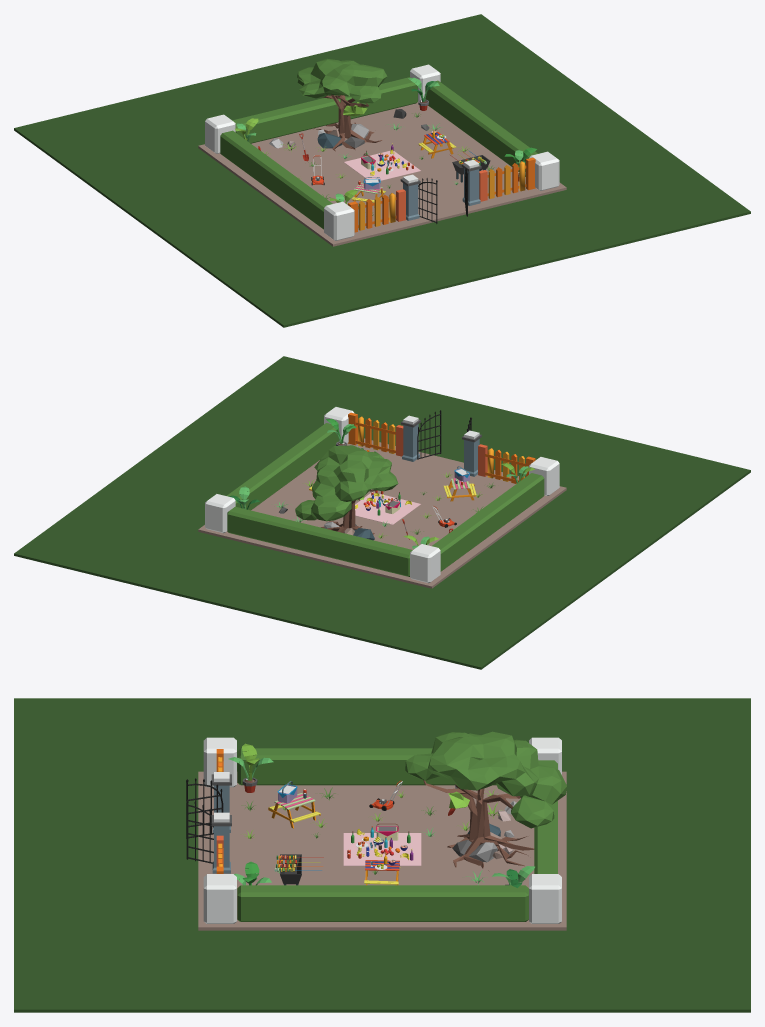
Rendered from map 3 - ngoai vuon.fbx.
The picture shows the model from 3 angles, top to bottom: view 1: azimuth 30°, elevation 25°; view 2: azimuth 150°, elevation 25°; view 3: azimuth 270°, elevation 25°; orthographic projection. The views are drawn at different scales.
Visible parts, largest first — view 1: Tile, pCube1, Big Ass Tree, polySurface206, polySurface205, pCube10, polySurface207, Fence, Fence.001, carpet, polySurface13, polySurface1; view 2: Tile, pCube1, polySurface206, Big Ass Tree, polySurface205, pCube10, polySurface207, Fence, Fence.001, carpet, polySurface1, polySurface13 (+1 smaller); view 3: Tile, pCube1, polySurface207, Big Ass Tree, polySurface205, pCube10, carpet, polySurface206, polySurface1, polySurface161, Gate.001, Tree Pot.001 (+3 smaller).
Part boxes in pixels (x1,y1,x2,y2): Tile: (14, 14, 750, 327); pCube1: (198, 102, 566, 246); Big Ass Tree: (297, 58, 387, 151); polySurface206: (232, 77, 417, 143); polySurface205: (220, 130, 332, 229); pCube10: (205, 64, 559, 240); polySurface207: (425, 80, 537, 176); Fence: (479, 157, 535, 201); Fence.001: (348, 189, 405, 232); carpet: (344, 151, 420, 180); polySurface13: (400, 174, 420, 220); polySurface1: (461, 159, 481, 205); Tile: (14, 356, 750, 669); pCube1: (198, 438, 566, 588); polySurface206: (227, 506, 412, 576); Big Ass Tree: (295, 445, 398, 534); polySurface205: (432, 473, 544, 571); pCube10: (205, 407, 559, 583); polySurface207: (227, 423, 338, 510); Fence: (348, 412, 403, 456); Fence.001: (478, 444, 535, 483); carpet: (355, 492, 420, 524); polySurface1: (401, 415, 420, 461); polySurface13: (462, 430, 481, 476); Tile: (14, 698, 750, 1012); pCube1: (198, 771, 566, 930); polySurface207: (237, 885, 528, 921); Big Ass Tree: (405, 731, 567, 871); polySurface205: (237, 748, 496, 785); pCube10: (203, 737, 561, 923); carpet: (343, 833, 421, 865); polySurface206: (534, 760, 557, 873); polySurface1: (211, 812, 231, 873); polySurface161: (268, 793, 320, 828); Gate.001: (186, 778, 223, 838); Tree Pot.001: (228, 743, 273, 792).
Size of the model in its own units: 7633 by 1392 by 7633.
